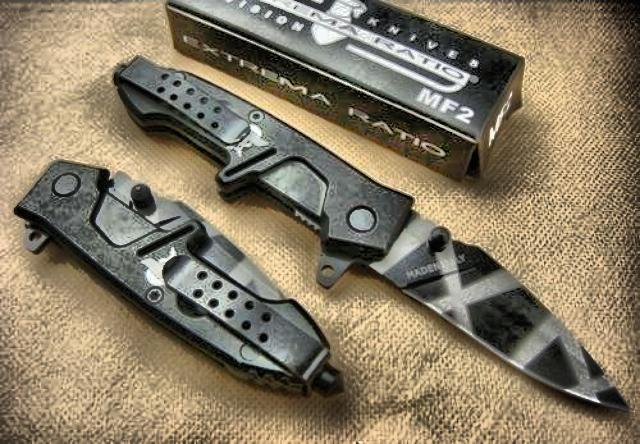knife: (363, 203, 635, 418)
